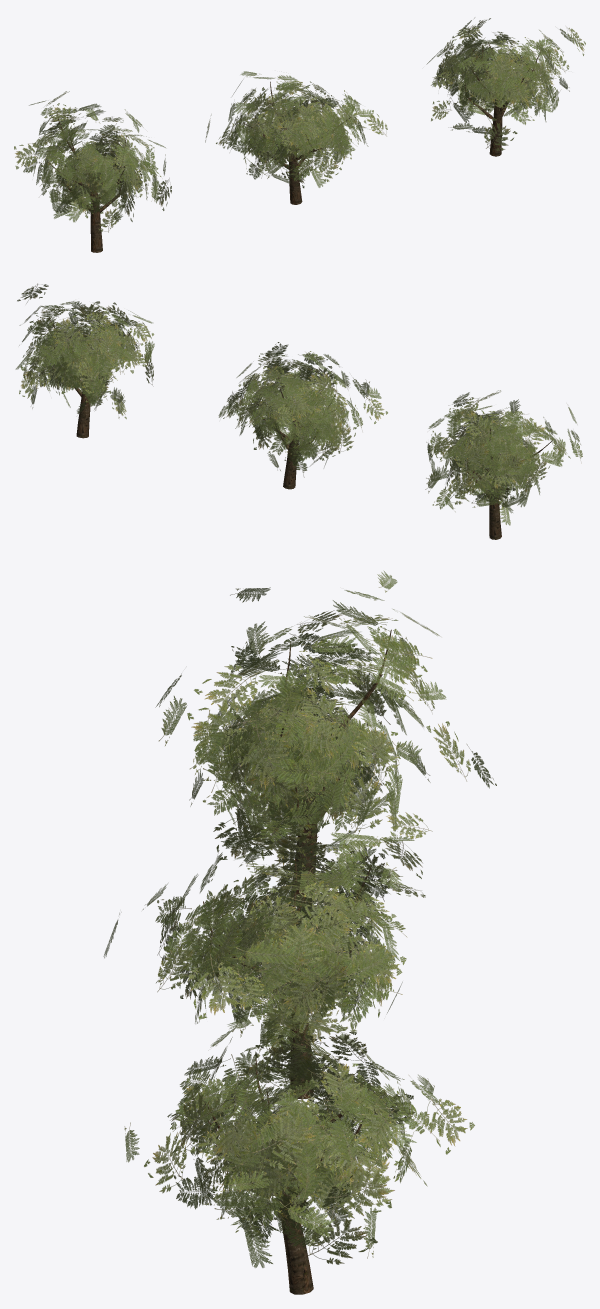
The model's file is tree_broadleaf.glb.
3 renders of one model, top to bottom at view 1: azimuth 30°, elevation 25°; view 2: azimuth 150°, elevation 25°; view 3: azimuth 270°, elevation 25°, orthographic. The views are drawn at different scales.
Visible parts, largest first — view 1: variant_0, variant_1, variant_2; view 2: variant_1, variant_0, variant_2; view 3: variant_2, variant_0, variant_1.
Part boxes in pixels (x1,y1,x2,y2): variant_0: [14, 91, 171, 252]; variant_1: [205, 71, 387, 204]; variant_2: [426, 18, 585, 156]; variant_1: [218, 342, 387, 489]; variant_0: [425, 390, 582, 539]; variant_2: [15, 283, 154, 438]; variant_2: [124, 1013, 474, 1294]; variant_0: [155, 570, 496, 903]; variant_1: [103, 808, 432, 1099].
Size of the model in its own units: 33.26 by 8.47 by 10.29.
2 materials, 2 textured.
